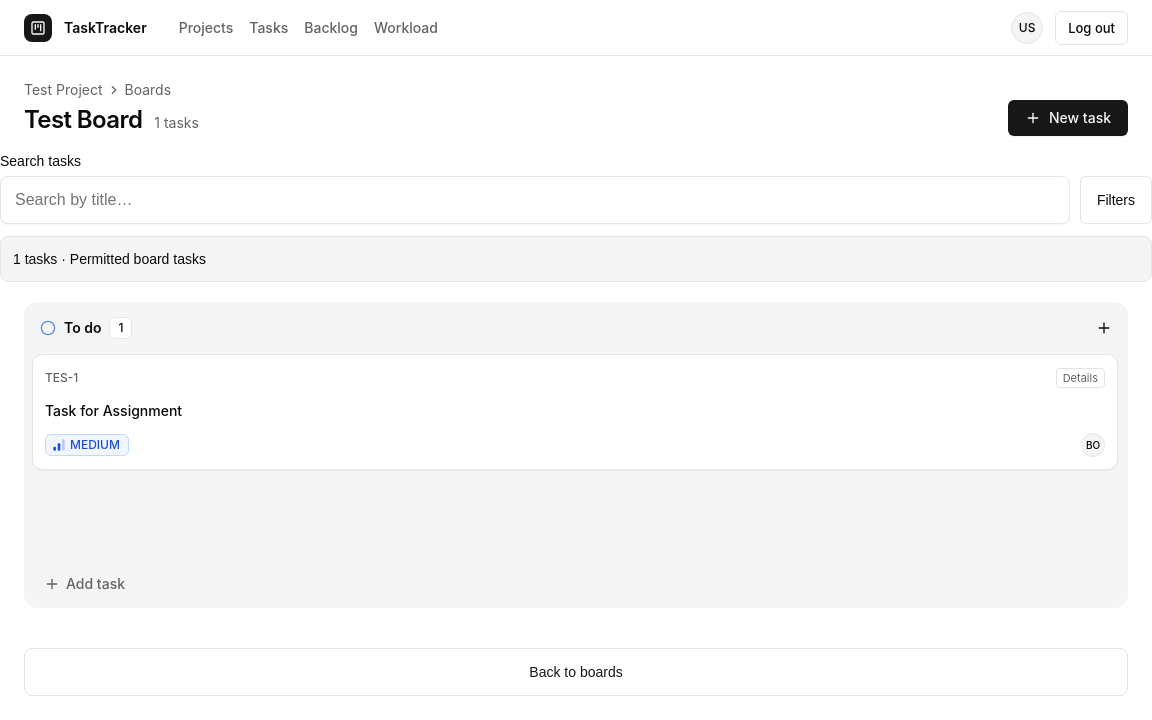
US-12 Assign or unassign task members acceptance tests › allows Writer to unassign a task when Unassigned option is selected
The image size is (1152, 720).
# Open task details
Click the button with test id "task-card-t-1" at (62, 378), box [32, 354, 1118, 470]
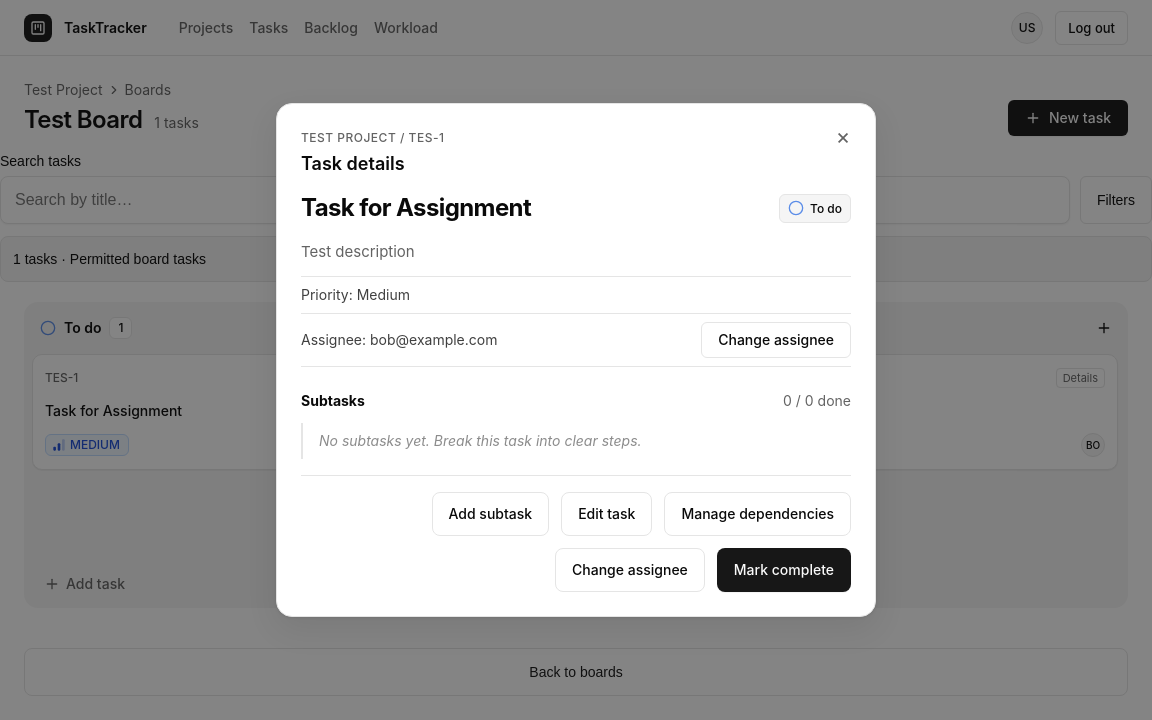
# Click "Change assignee"
Click the button with test id "task-details-change-assignee-btn" at (776, 340), box [701, 322, 851, 358]
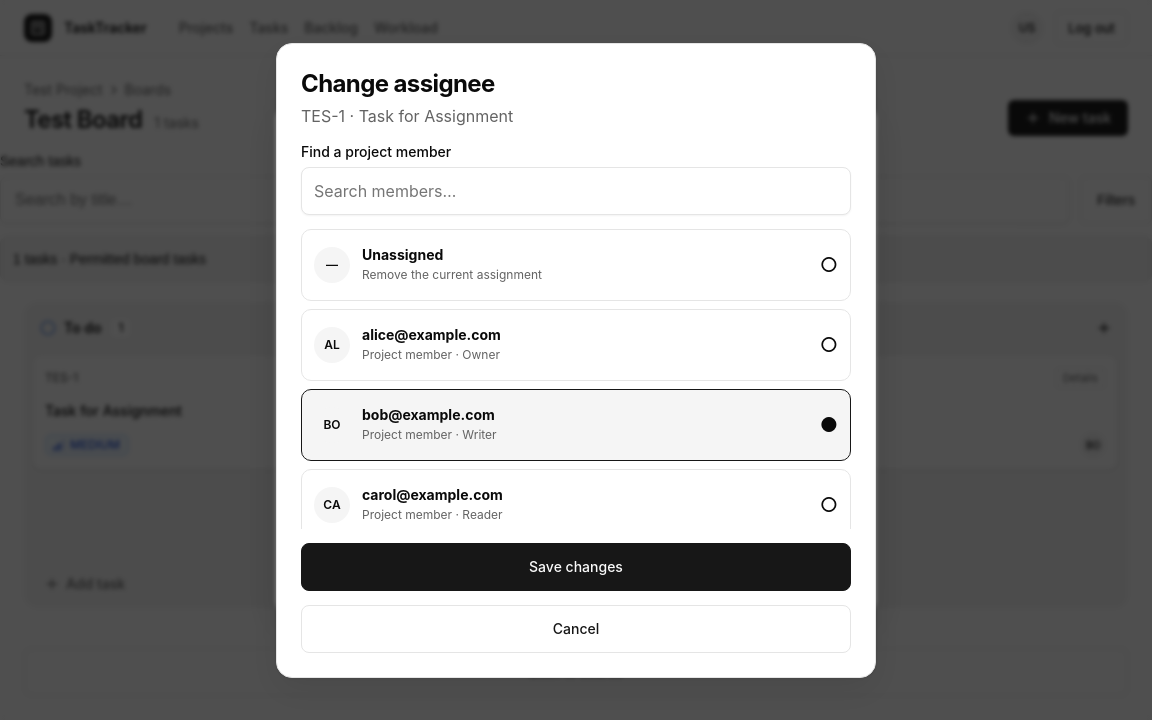
Expected: the dialog with test id "task-assignee-modal" is shown, [276, 42, 876, 678]
# Select "— Unassigned"
Click the radio button with test id "assignee-option-unassigned" at (576, 264), box [301, 228, 851, 300]
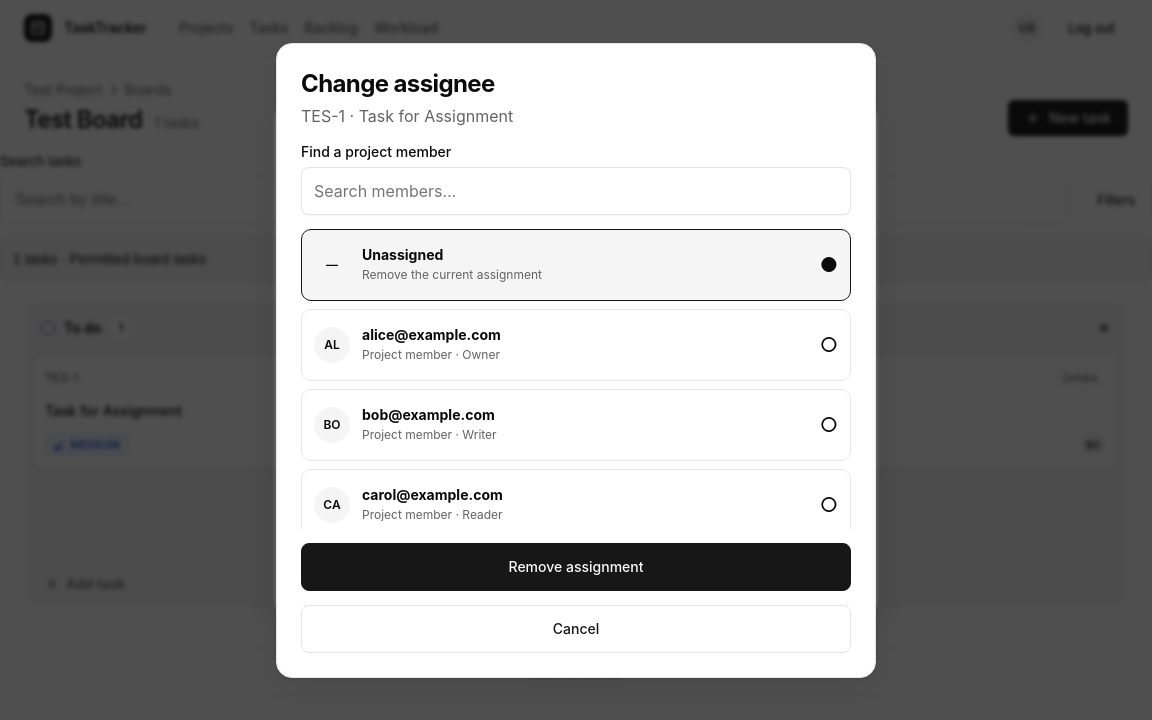
Expected: the button with test id "save-assignee-btn" reads "Remove assignment"
Click the button with test id "save-assignee-btn" at (576, 566), box [301, 542, 851, 590]
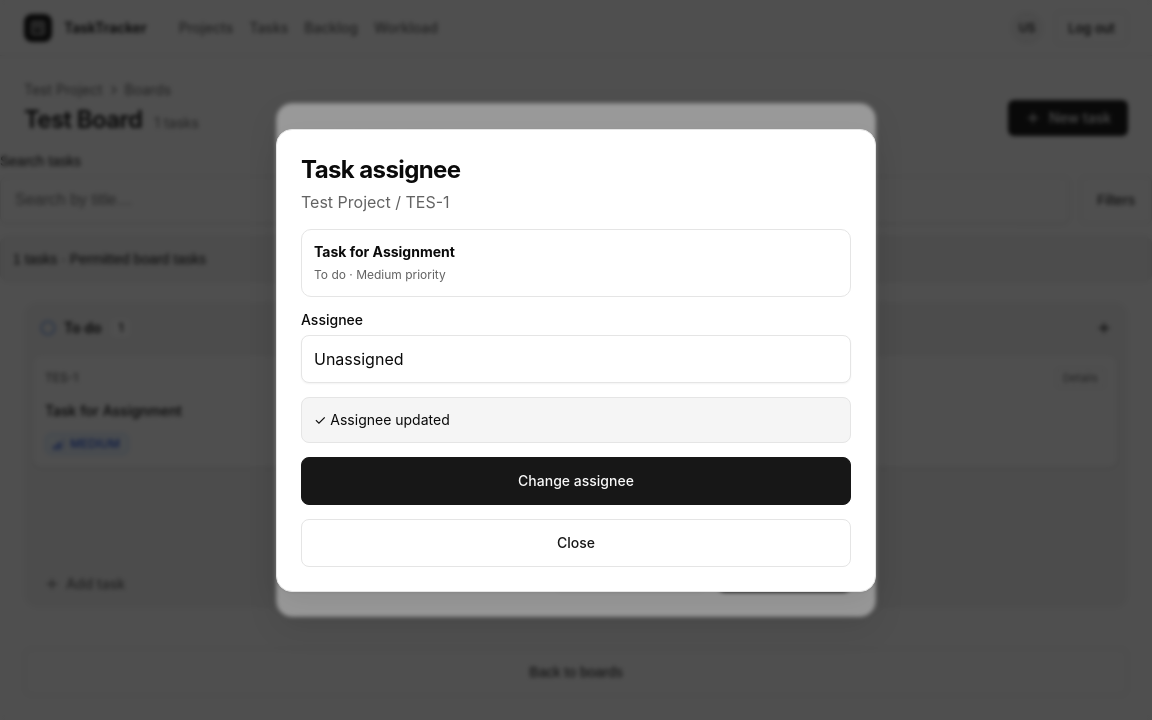
Expected: the message with test id "assignee-updated-banner" shows "Assignee updated", [314, 410, 450, 428]
